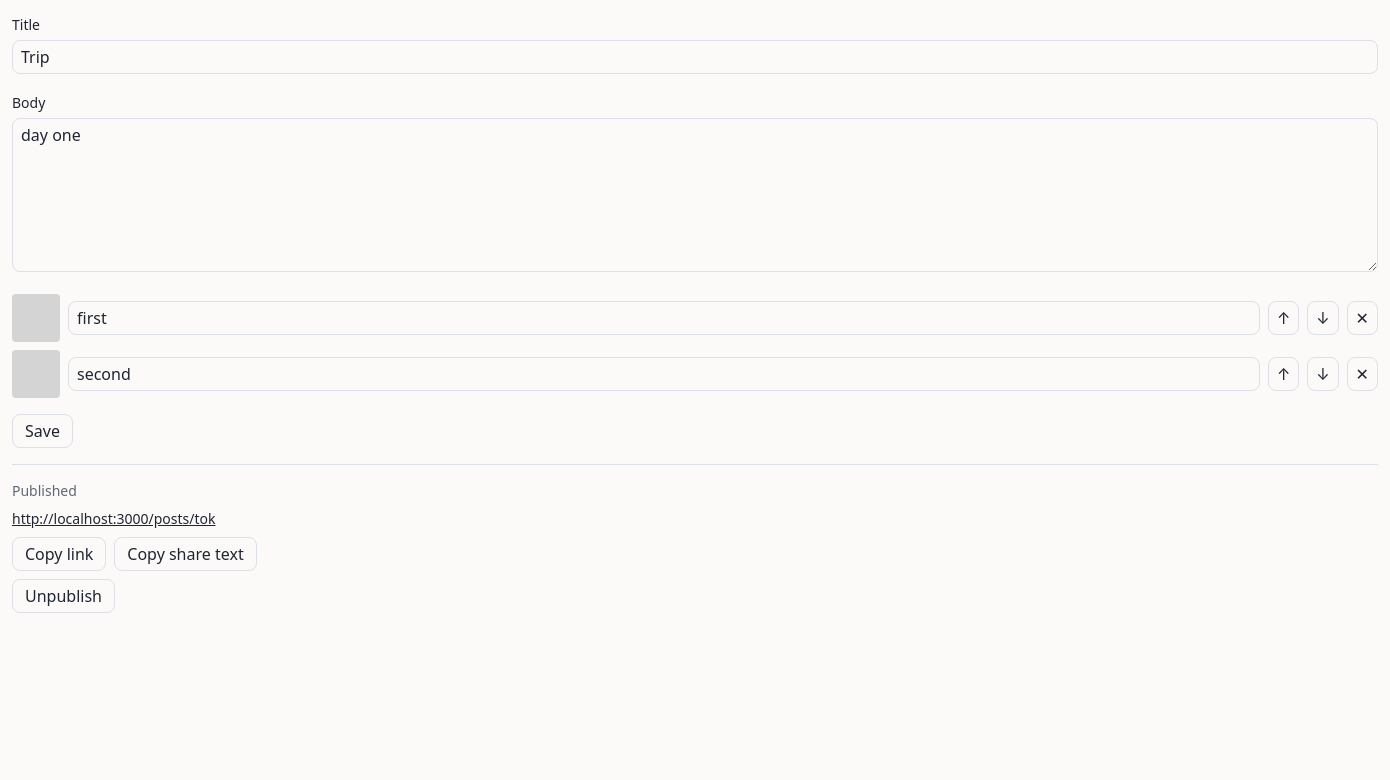
Test case: PostEditor › surfaces an unpublish failure
Click the button "Unpublish" at x=64, y=596, box x1=12 y1=579 x2=115 y2=613
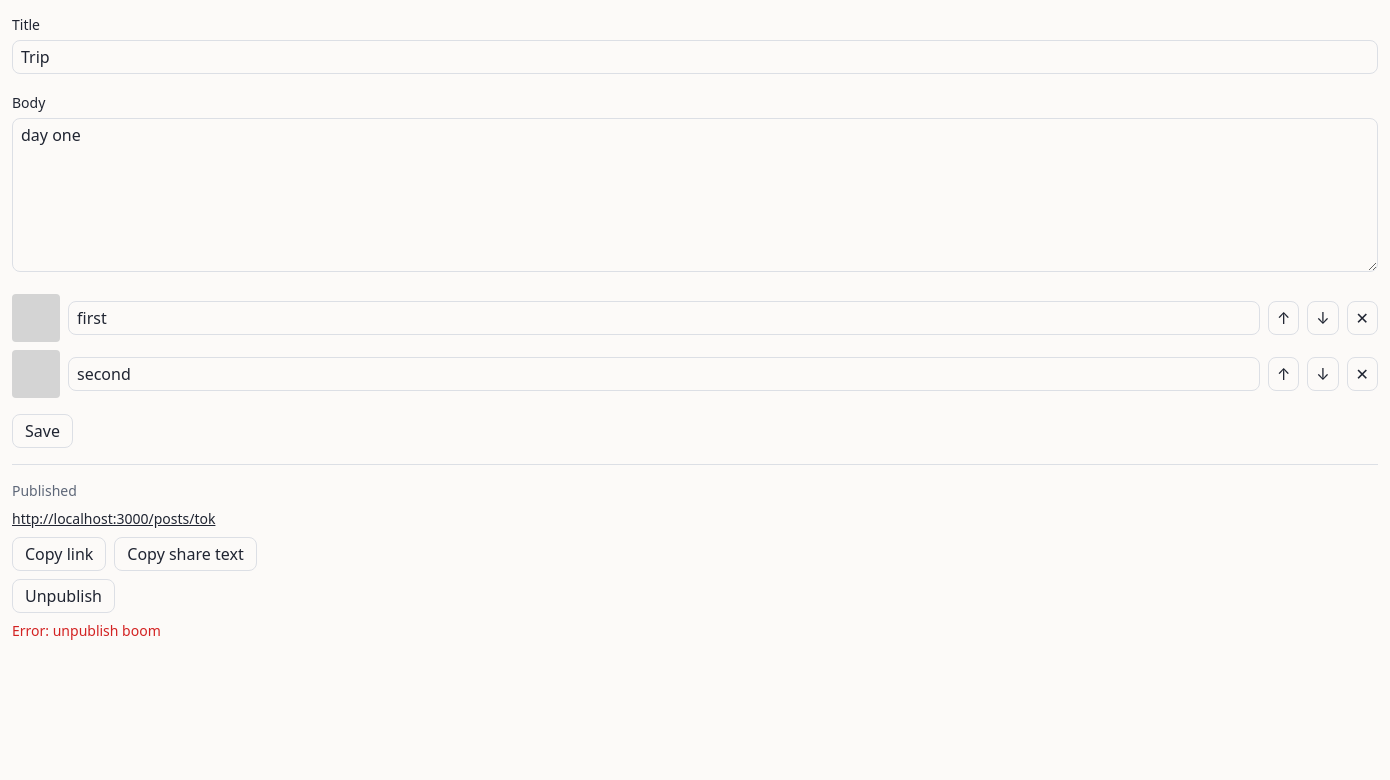
Now the text "Error: unpublish boom" is shown, box x1=12 y1=621 x2=161 y2=640
